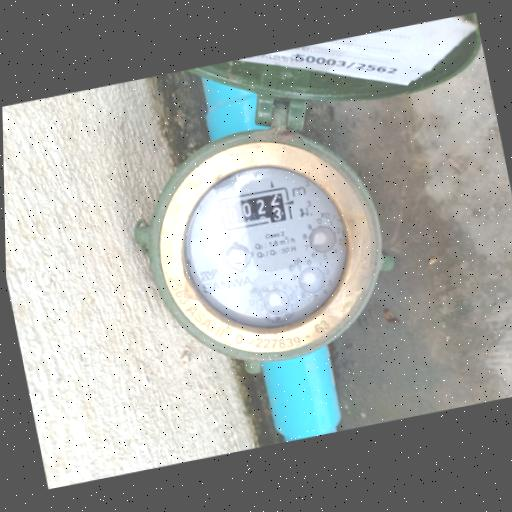0: (223, 201, 243, 226), (238, 198, 256, 223)
2: (265, 191, 286, 223), (251, 195, 271, 220)
border_water_meter_number: (216, 184, 292, 234)
